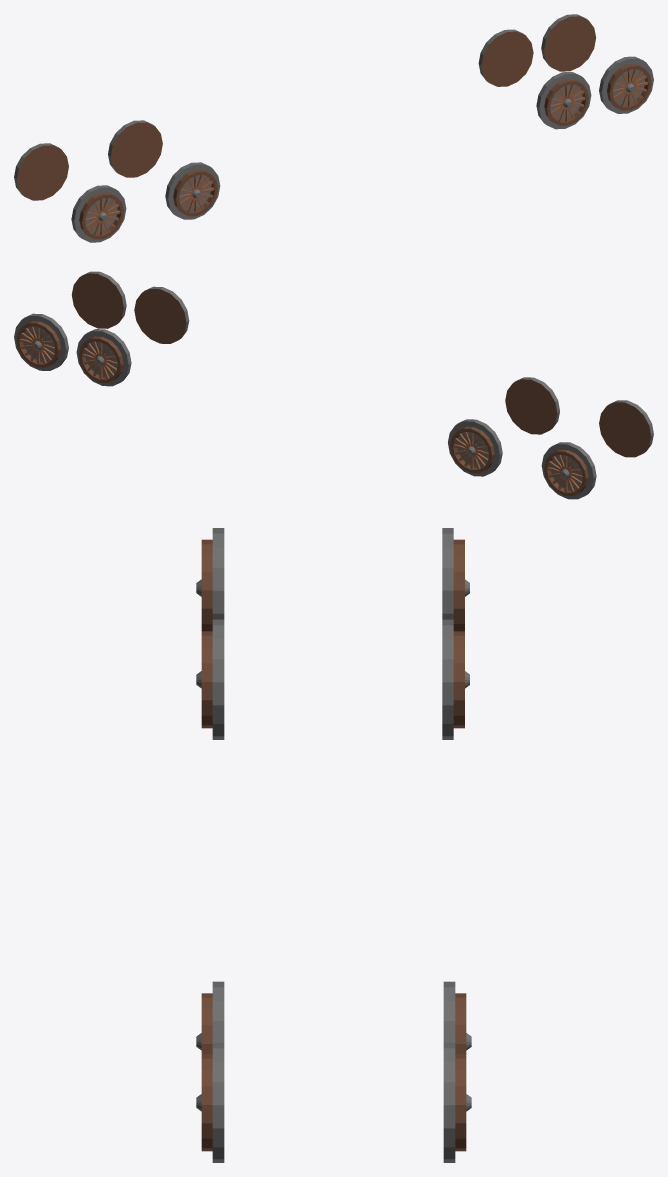
Rendered from trainWheels.fbx.
3 renders of one model, top to bottom at view 1: azimuth 30°, elevation 25°; view 2: azimuth 150°, elevation 25°; view 3: azimuth 270°, elevation 25°, orthographic. The views are drawn at different scales.
Visible parts, largest first — view 1: Cylinder.048, Cylinder.063, Cylinder.042, Cylinder.064, Cylinder.047, Cylinder.065, Cylinder.066, Cylinder.041; view 2: Cylinder.047, Cylinder.065, Cylinder.048, Cylinder.063, Cylinder.064, Cylinder.066, Cylinder.041, Cylinder.042; view 3: Cylinder.065, Cylinder.042, Cylinder.066, Cylinder.048, Cylinder.047, Cylinder.063, Cylinder.041, Cylinder.064.
Part boxes in pixels (x1,y1,x2,y2): Cylinder.048: [108, 120, 162, 177]; Cylinder.063: [14, 143, 68, 200]; Cylinder.042: [541, 14, 596, 71]; Cylinder.064: [478, 29, 533, 86]; Cylinder.047: [71, 185, 126, 242]; Cylinder.065: [165, 162, 220, 219]; Cylinder.066: [599, 56, 653, 113]; Cylinder.041: [536, 72, 591, 129]; Cylinder.047: [599, 400, 653, 457]; Cylinder.065: [505, 377, 559, 434]; Cylinder.048: [448, 419, 502, 476]; Cylinder.063: [541, 442, 596, 499]; Cylinder.064: [76, 329, 131, 386]; Cylinder.066: [71, 271, 126, 328]; Cylinder.041: [134, 286, 189, 343]; Cylinder.042: [14, 313, 68, 370]; Cylinder.065: [196, 619, 224, 739]; Cylinder.042: [443, 1042, 471, 1162]; Cylinder.066: [196, 1042, 224, 1162]; Cylinder.048: [442, 619, 469, 739]; Cylinder.047: [196, 528, 224, 631]; Cylinder.063: [442, 528, 469, 631]; Cylinder.041: [196, 981, 224, 1054]; Cylinder.064: [443, 981, 471, 1054].
Bounding box in the file's own units: 1182 × 106 × 243.
